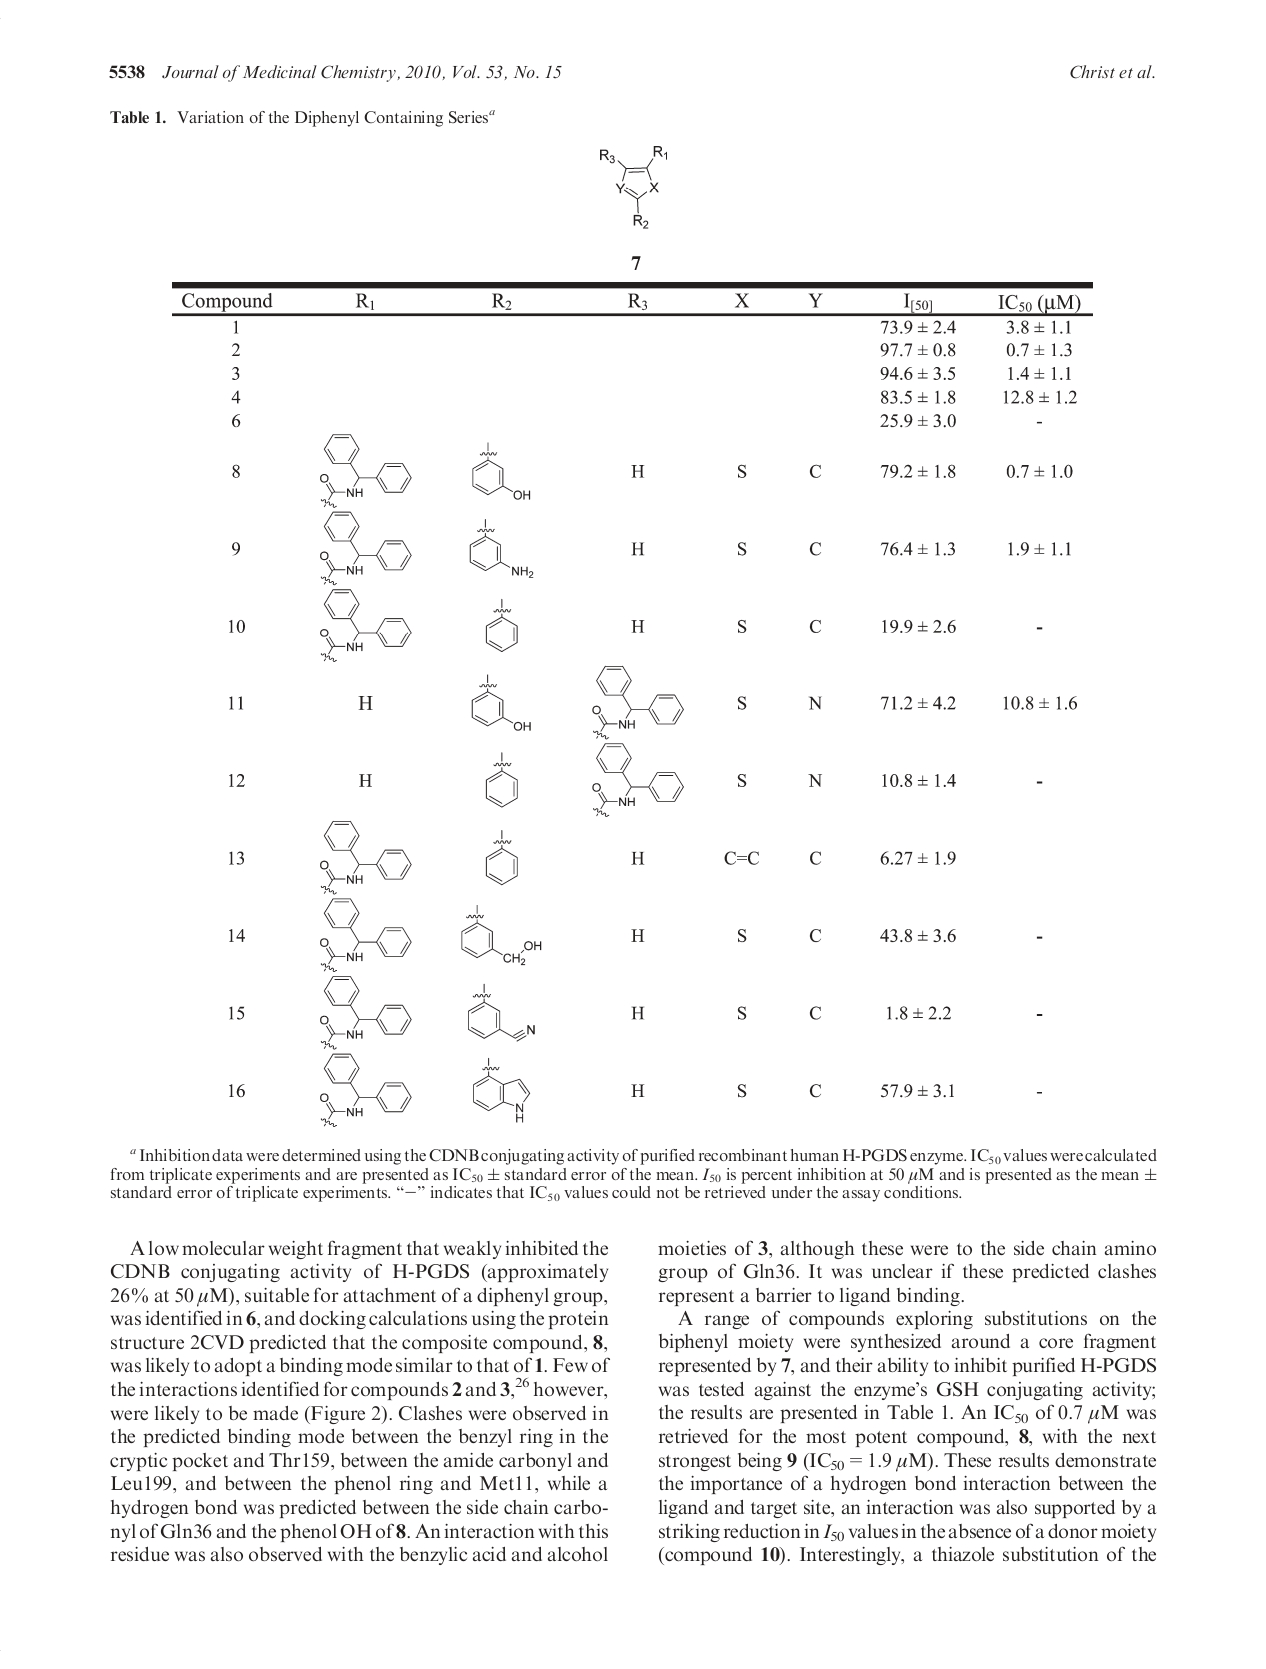exist_molecular: (586, 664, 690, 821), (311, 1047, 415, 1132), (315, 508, 424, 588), (313, 895, 422, 973), (310, 972, 418, 1051), (311, 588, 414, 668), (313, 432, 418, 509), (313, 819, 416, 896), (594, 136, 672, 238), (453, 900, 541, 969), (455, 977, 547, 1043), (464, 513, 537, 594), (468, 1056, 537, 1126), (469, 670, 535, 735), (468, 440, 533, 501), (481, 747, 527, 809), (483, 827, 520, 894), (481, 597, 521, 652)
